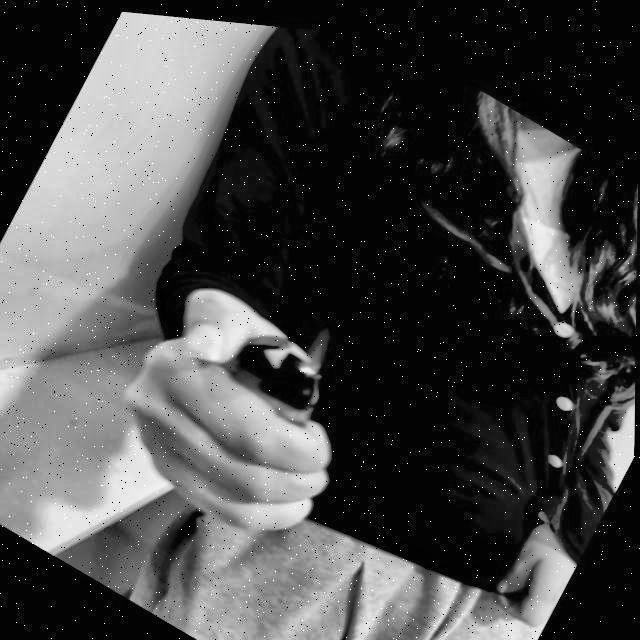Fire: (296, 304, 345, 376)
